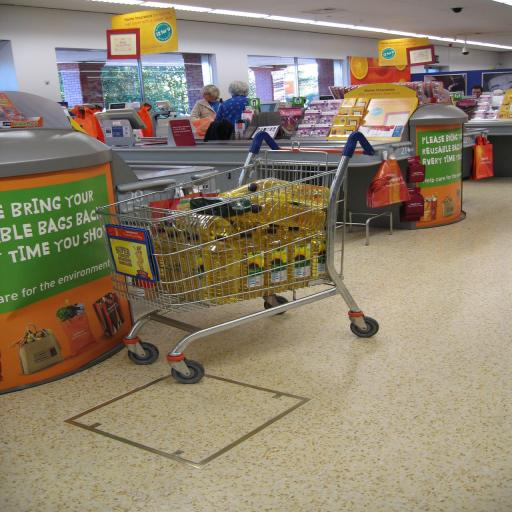shopping_cart: (103, 134, 386, 387)
